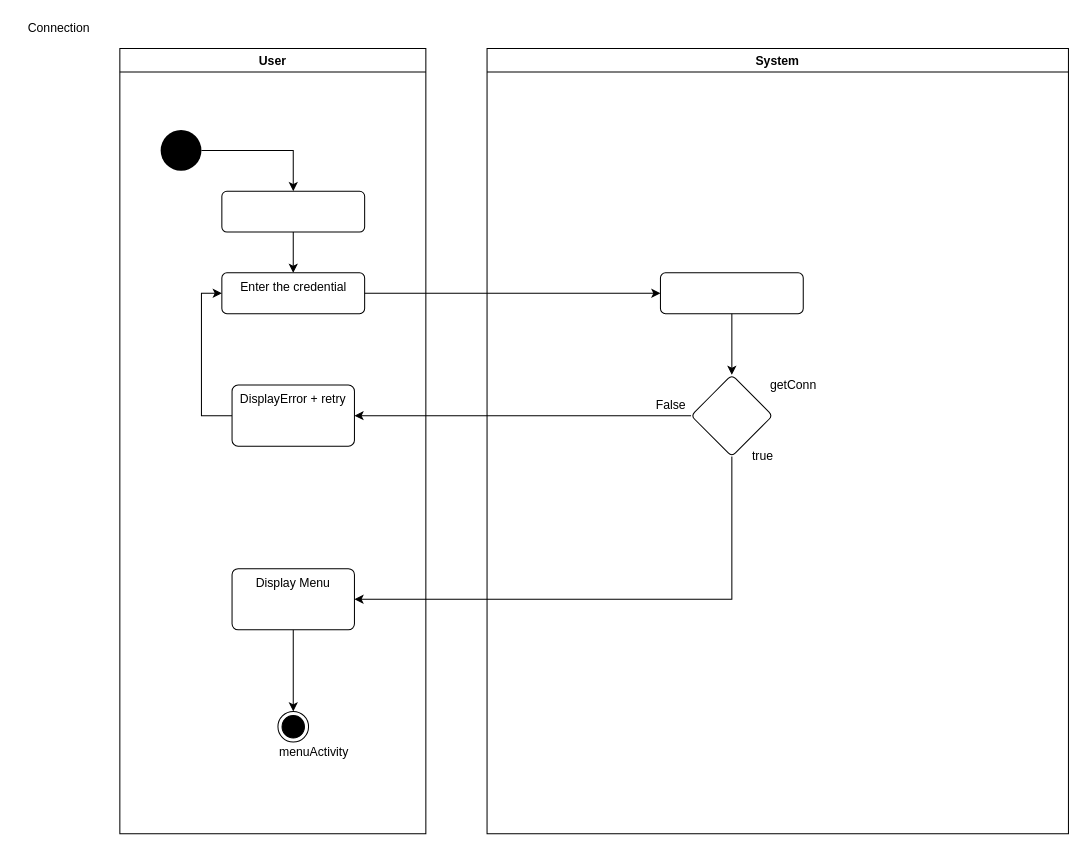
Some shapes in this 1086 by 852 pixel diagram are drawn without their labels. The centre of each missing label's shape, as x and y in pixels:
Received the credential: (731,293)
Start The application: (293,211)
